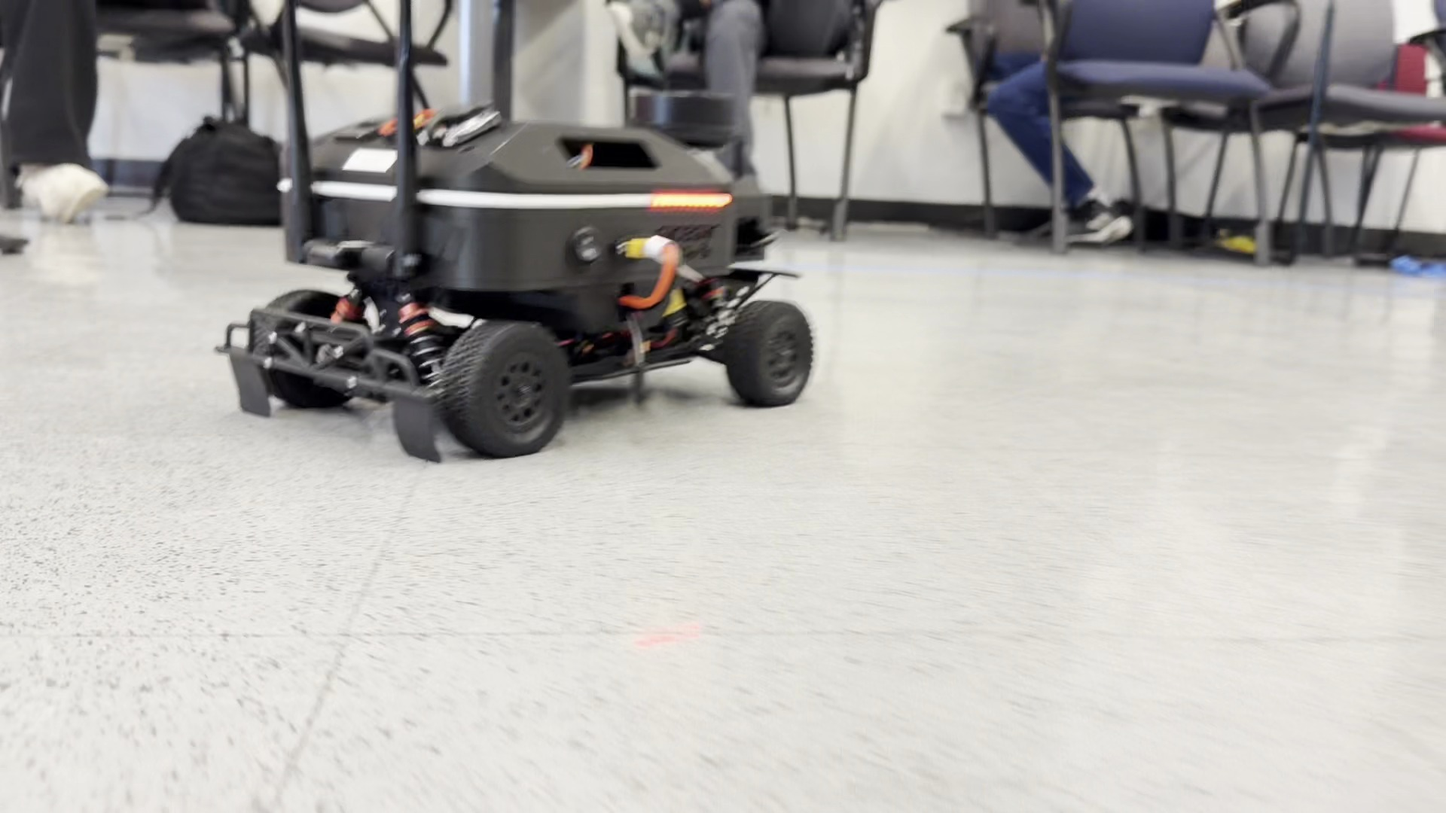racecar: (223, 130, 814, 463)
